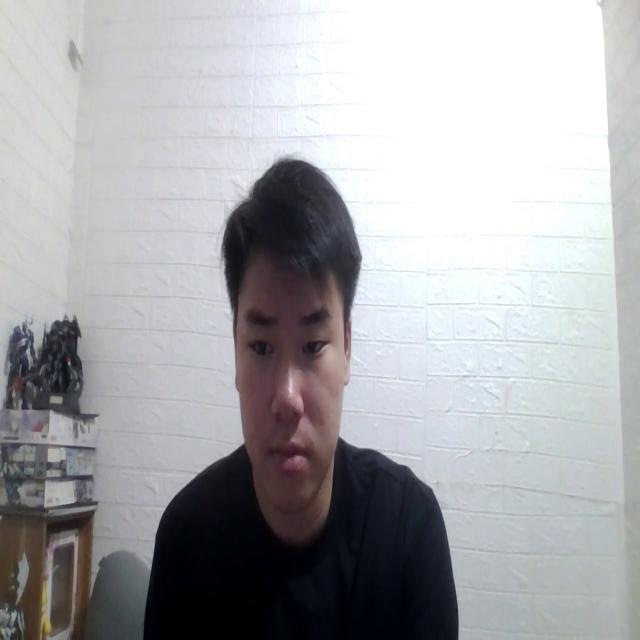student: (136, 155, 460, 640)
